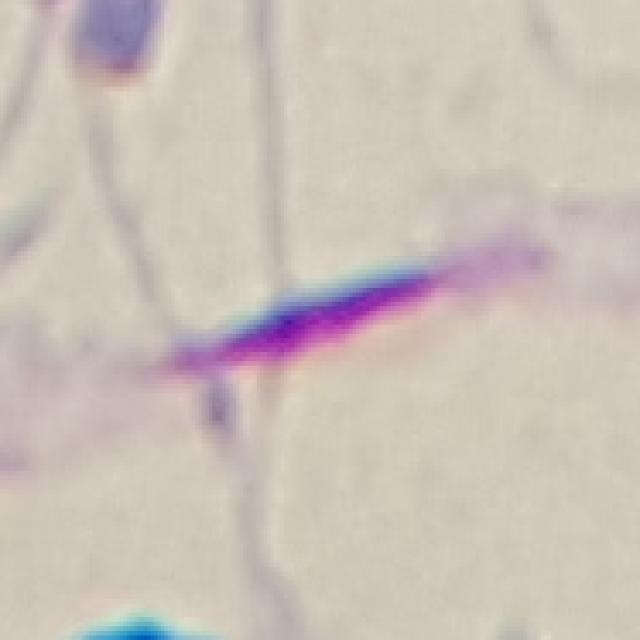non-sperm: (157, 256, 453, 380)
